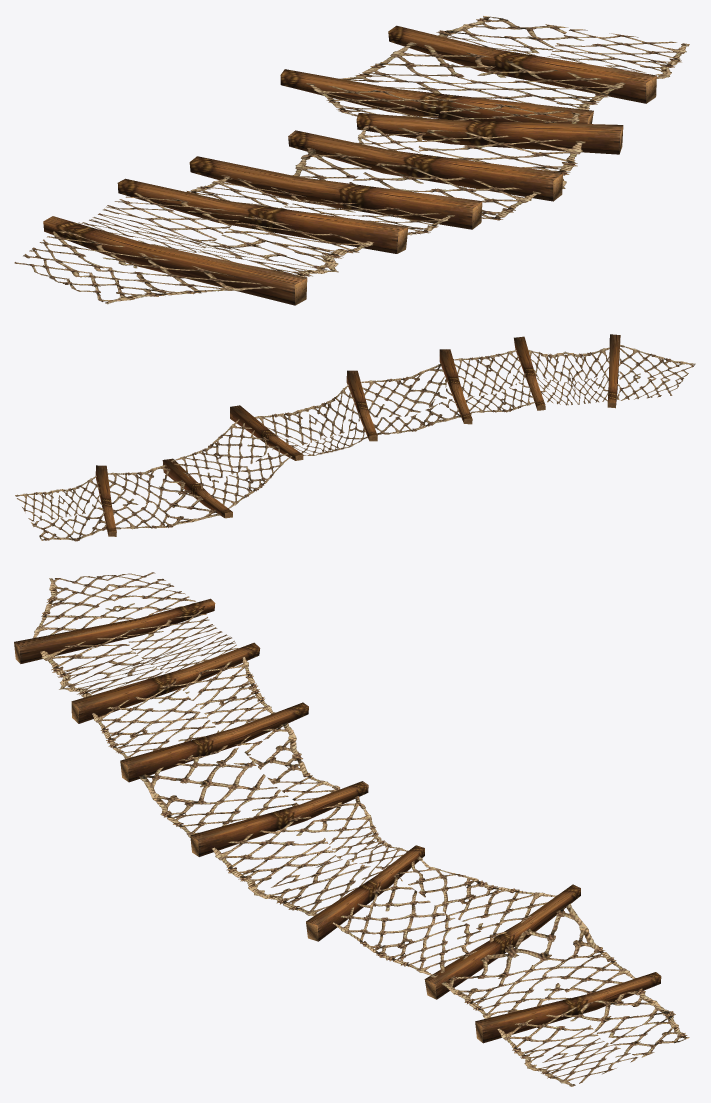
File: environment_common_diaoqiao_001.FBX
The picture shows the model from 3 angles, top to bottom: view 1: azimuth 30°, elevation 25°; view 2: azimuth 150°, elevation 25°; view 3: azimuth 270°, elevation 25°; orthographic projection. The views are drawn at different scales.
Parts seen in each view (by area): view 1: environment_common_diaoqiao_001_02, environment_common_diaoqiao_001_01; view 2: environment_common_diaoqiao_001_01, environment_common_diaoqiao_001_02; view 3: environment_common_diaoqiao_001_01, environment_common_diaoqiao_001_02.
Part boxes in pixels (x1,y1,x2,y2): environment_common_diaoqiao_001_02: (43, 25, 656, 305); environment_common_diaoqiao_001_01: (14, 16, 689, 304); environment_common_diaoqiao_001_01: (15, 344, 695, 541); environment_common_diaoqiao_001_02: (95, 334, 620, 536); environment_common_diaoqiao_001_01: (33, 572, 689, 1086); environment_common_diaoqiao_001_02: (14, 598, 661, 1043).
Bounding box in the file's own units: 352 × 77.29 × 288.
